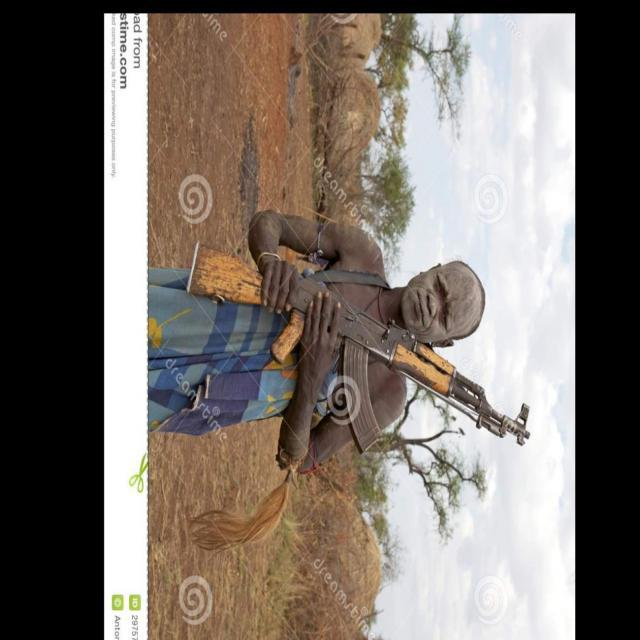weapon: (186, 238, 532, 448)
